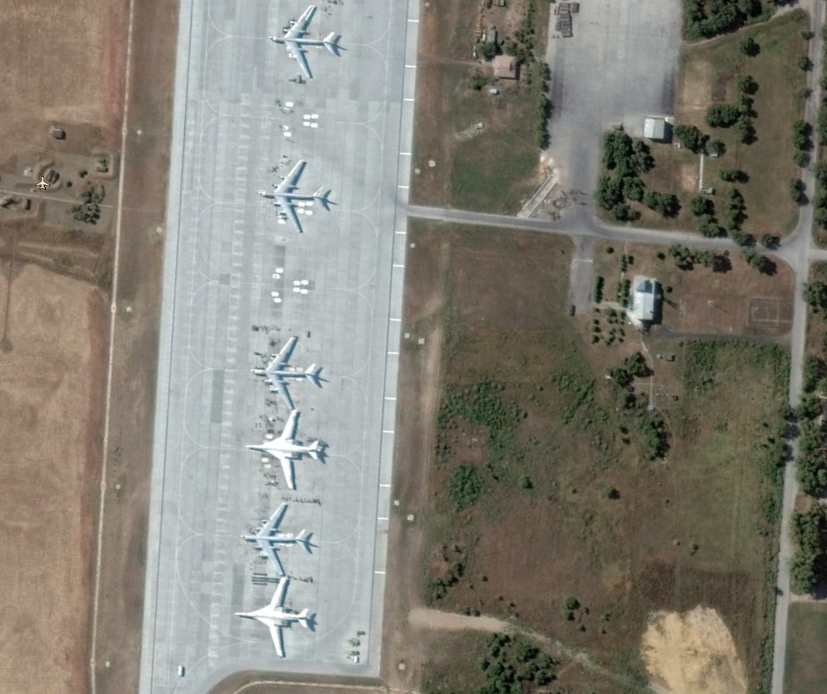A17: (228, 494, 328, 579), (246, 329, 346, 414), (248, 153, 348, 238), (257, 1, 357, 86)
A6: (231, 576, 331, 661), (237, 407, 337, 492)
